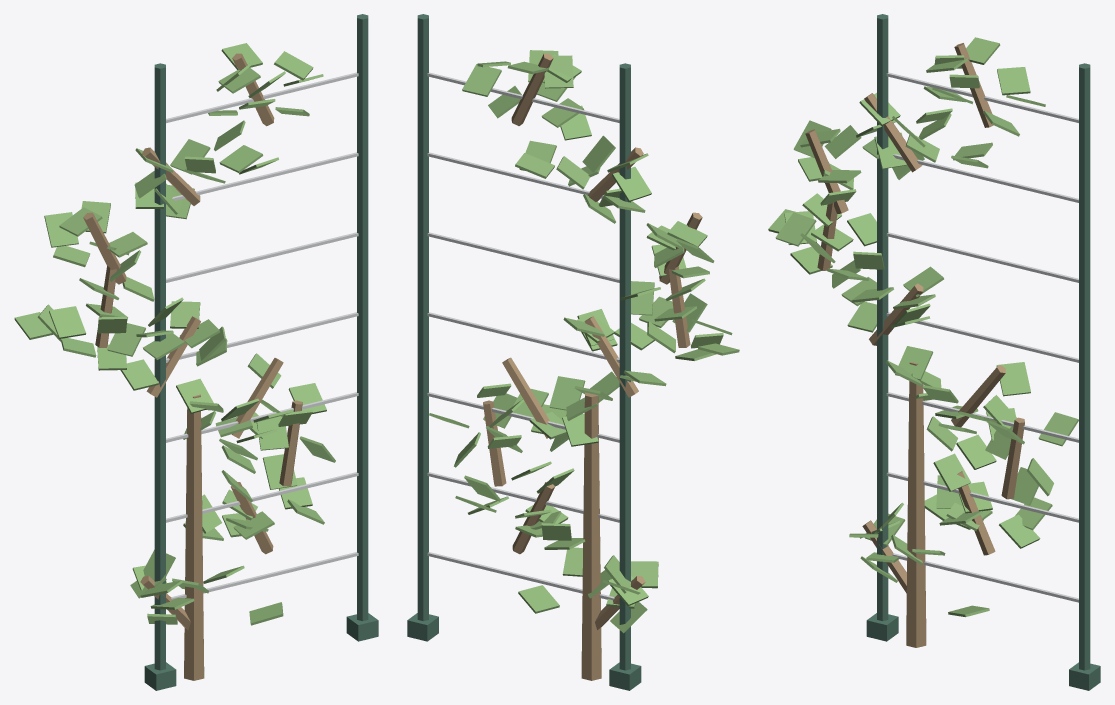
Rendered from botanical-glasshouse-and-palm-house-botanical-glasshou-5297b73f__38584.glb.
The picture shows the model from 3 angles, left to right: view 1: azimuth 30°, elevation 25°; view 2: azimuth 150°, elevation 25°; view 3: azimuth 330°, elevation 25°; orthographic projection.
Visible parts, largest first — view 1: botanical-glasshouse-and-palm-house-climbing-vine-frame; view 2: botanical-glasshouse-and-palm-house-climbing-vine-frame; view 3: botanical-glasshouse-and-palm-house-climbing-vine-frame.
Boxes of the visible parts, bbox=[...] form: botanical-glasshouse-and-palm-house-climbing-vine-frame: bbox=[14, 14, 378, 690]; botanical-glasshouse-and-palm-house-climbing-vine-frame: bbox=[407, 14, 739, 690]; botanical-glasshouse-and-palm-house-climbing-vine-frame: bbox=[768, 14, 1100, 690].
Size of the model in its own units: 1.49 by 2.63 by 0.3757.
